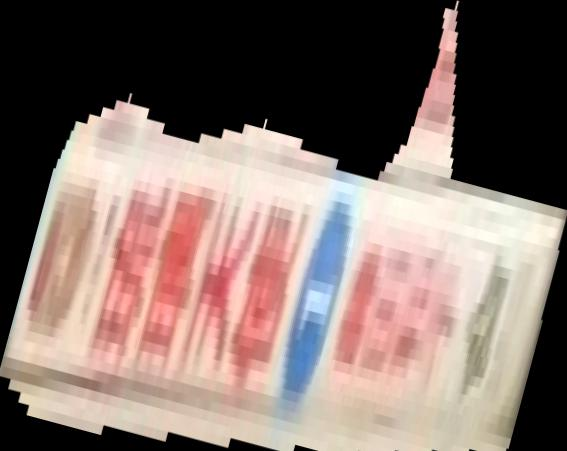flat: (1, 1, 567, 451)
